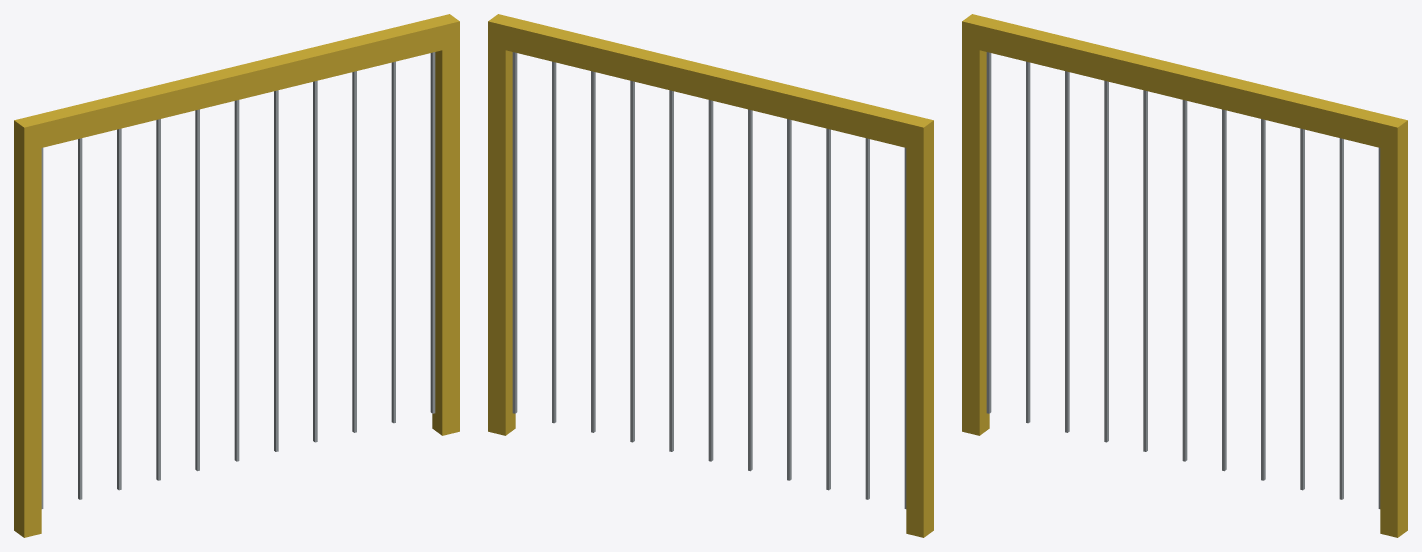
The picture shows the model from 3 angles, left to right: view 1: azimuth 30°, elevation 25°; view 2: azimuth 150°, elevation 25°; view 3: azimuth 330°, elevation 25°; orthographic projection.
Visible parts, largest first — view 1: header, post0, post1, bar5, bar10, bar2, bar3, bar7, bar1, bar4, bar6, bar8 (+2 smaller); view 2: header, post0, post1, bar5, bar10, bar2, bar3, bar7, bar1, bar4, bar6, bar8 (+2 smaller); view 3: header, post1, post0, bar5, bar0, bar3, bar7, bar8, bar2, bar4, bar6, bar9 (+2 smaller).
Part boxes in pixels (x1,y1,x2,y2): header: (14, 14, 459, 151); post0: (14, 120, 41, 537); post1: (432, 25, 459, 435); bar5: (234, 100, 239, 461); bar10: (430, 52, 435, 413); bar2: (117, 128, 121, 490); bar3: (156, 119, 160, 480); bar7: (313, 80, 317, 442); bar1: (78, 138, 82, 499); bar4: (195, 109, 199, 471); bar6: (274, 90, 278, 451); bar8: (352, 71, 356, 432); header: (488, 14, 933, 151); post0: (906, 121, 933, 537); post1: (488, 24, 515, 435); bar5: (708, 100, 713, 461); bar10: (512, 52, 517, 413); bar2: (826, 128, 830, 490); bar3: (787, 119, 791, 480); bar7: (630, 80, 634, 442); bar1: (865, 138, 869, 499); bar4: (748, 109, 752, 471); bar6: (669, 90, 673, 451); bar8: (591, 71, 595, 432); header: (962, 14, 1407, 151); post1: (1380, 120, 1407, 537); post0: (962, 24, 989, 435); bar5: (1182, 100, 1187, 461); bar0: (986, 52, 991, 413); bar3: (1104, 80, 1108, 442); bar7: (1261, 119, 1265, 480); bar8: (1300, 128, 1304, 490); bar2: (1065, 71, 1069, 432); bar4: (1143, 90, 1147, 451); bar6: (1222, 109, 1226, 471); bar9: (1339, 138, 1343, 499).
Size of the model in its own units: 2 by 1.8 by 0.08.
